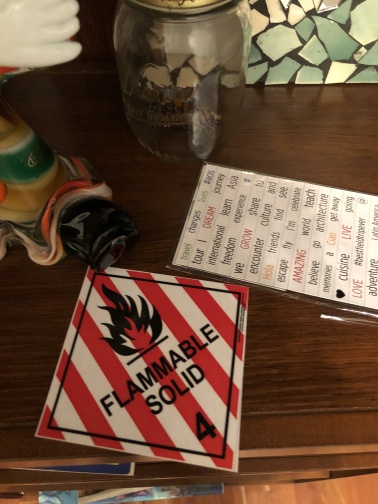FlammableSolid: (40, 272, 247, 462)
